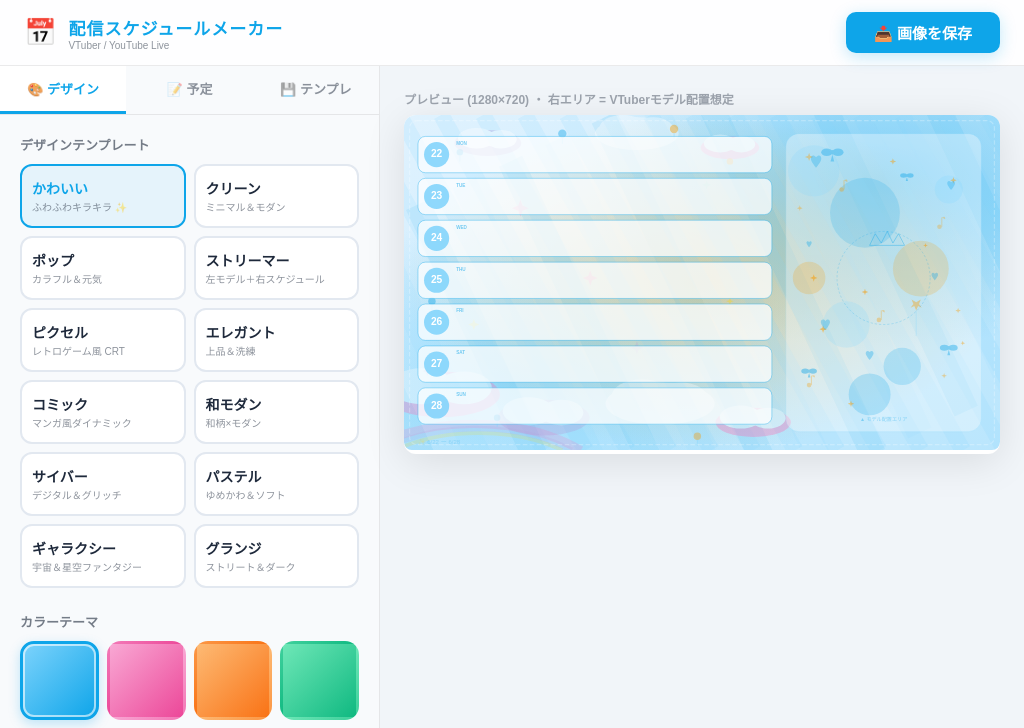
Scenario: WeeklyScheduleMaker（レンダリングスモーク） › テンプレ保存→一覧に反映され localStorage に永続化
Click the button "💾 テンプレ" at (316, 90), box [253,66,379,114]
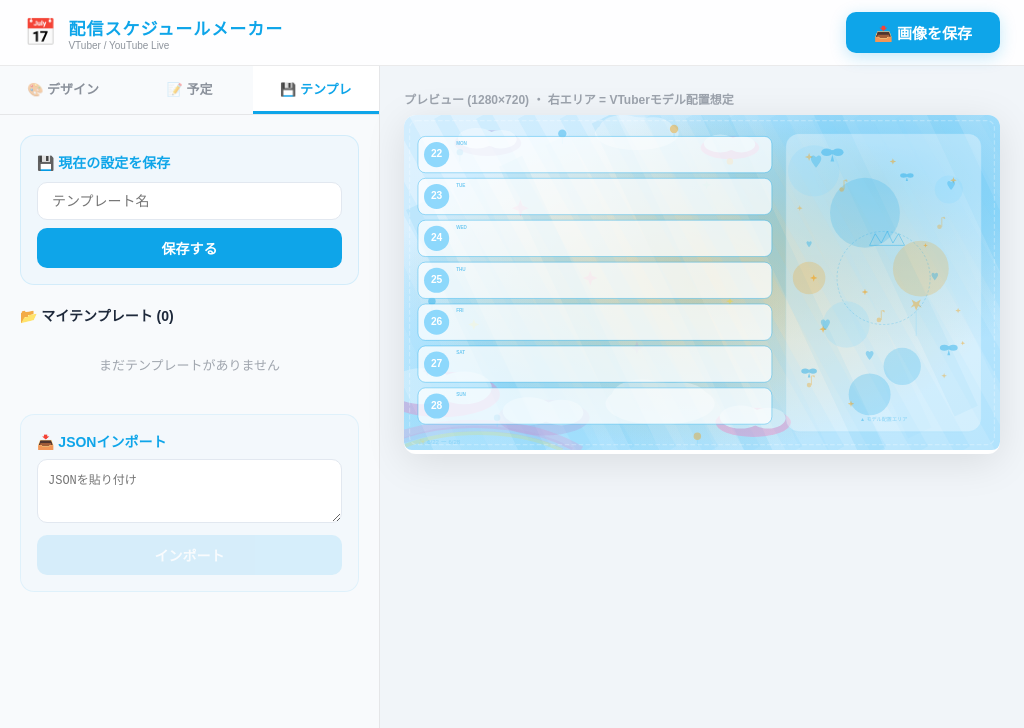
Type "my-template" into the field with placeholder "テンプレート名" at (190, 201), box [37,182,342,220]
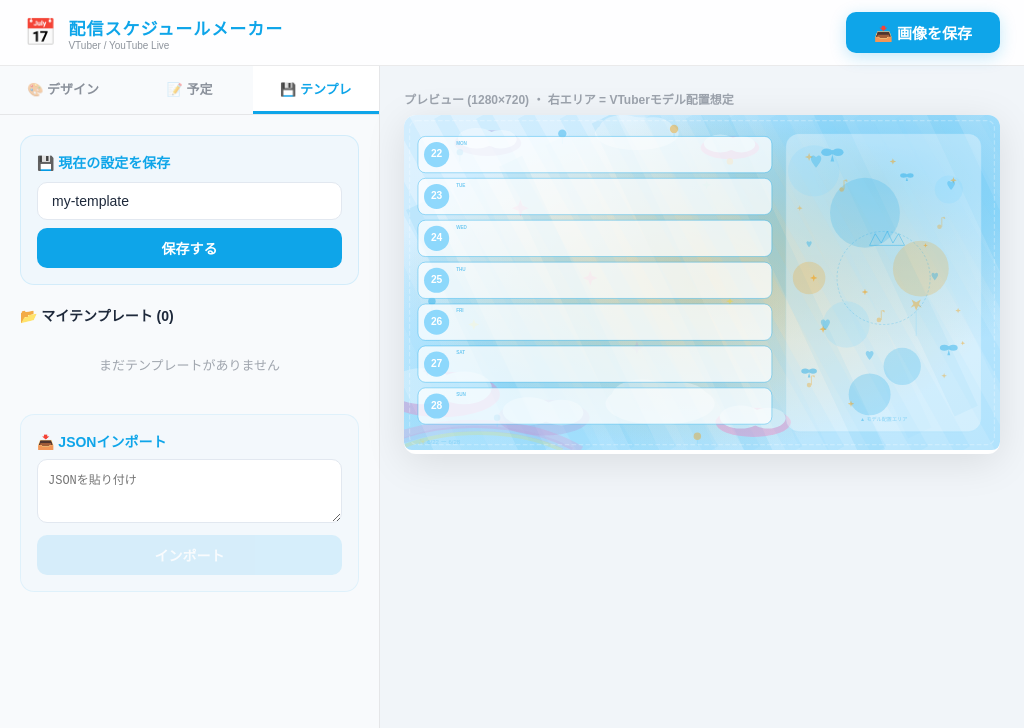
Click the button "保存する" at (190, 248), box [37,228,342,268]
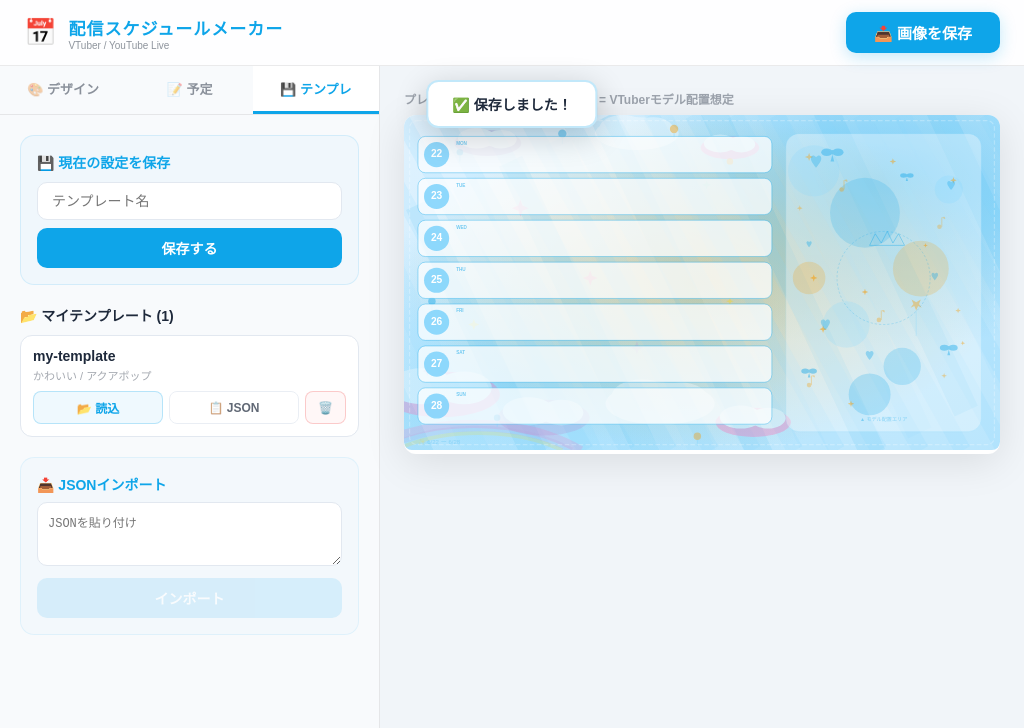
expect the text "my-template" is shown: met, box [33,348,116,364]
